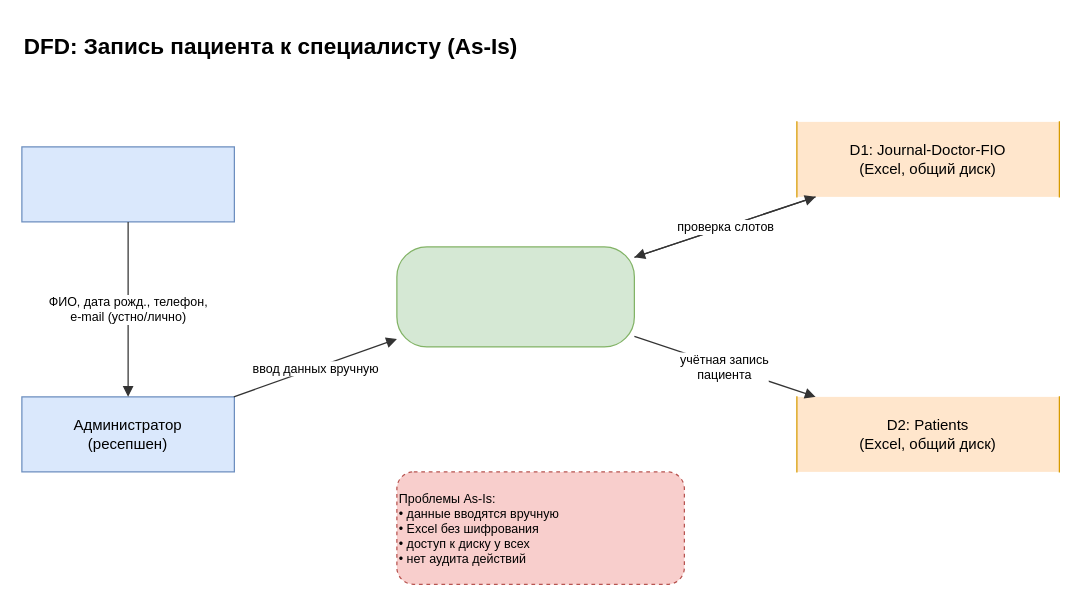
This 1081x606 diagram has some shape labels left out. Here are the shapes that lost their labels. From the top down, the centre of each, then its label:
(x=127, y=184): Пациент [внешняя сущность]
(x=515, y=296): 1.0 Оформление записи и регистрация пациента
